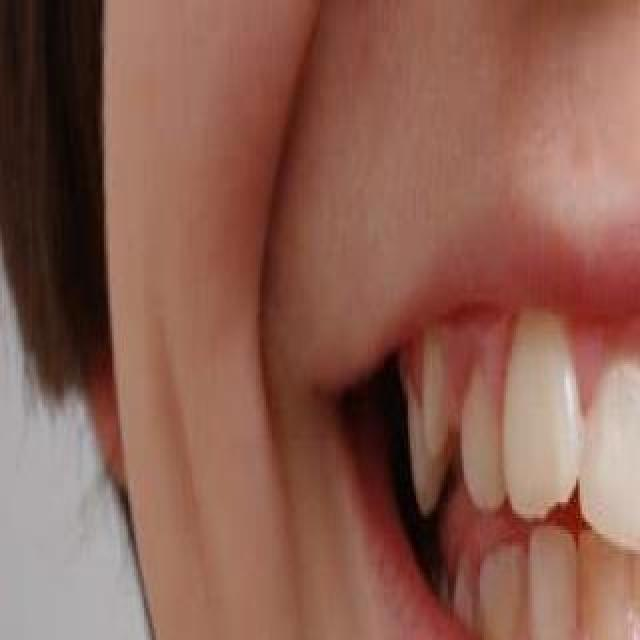maligned: (497, 320, 587, 498), (586, 364, 640, 542), (406, 343, 458, 461)
